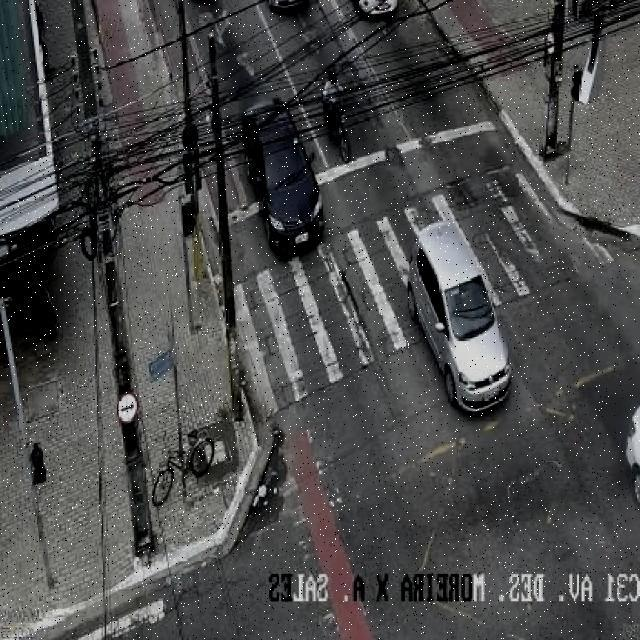Car: (403, 218, 513, 418), (238, 102, 332, 255), (623, 402, 640, 513), (351, 0, 405, 11), (269, 0, 313, 9)
Cycle: (150, 429, 218, 510)
